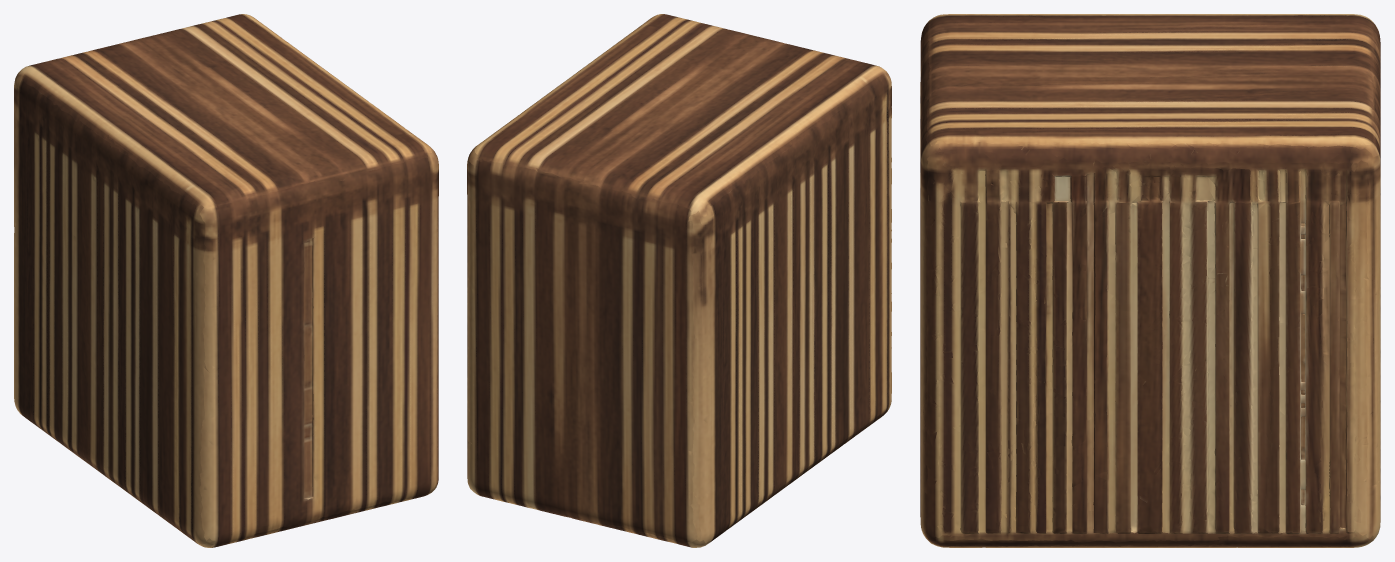
Rendered from item_1782b6b0.glb.
The picture shows the model from 3 angles, left to right: view 1: azimuth 30°, elevation 25°; view 2: azimuth 150°, elevation 25°; view 3: azimuth 270°, elevation 25°; orthographic projection. The views are drawn at different scales.
Parts seen in each view (by area): view 1: world; view 2: world; view 3: world.
Part boxes in pixels (x1=…): world: x1=14, y1=14, x2=438, y2=547; world: x1=467, y1=14, x2=891, y2=547; world: x1=920, y1=14, x2=1380, y2=547.
Size of the model in its own units: 0.6 by 0.8281 by 0.8395.
Materials: 1 (1 with a texture image).
